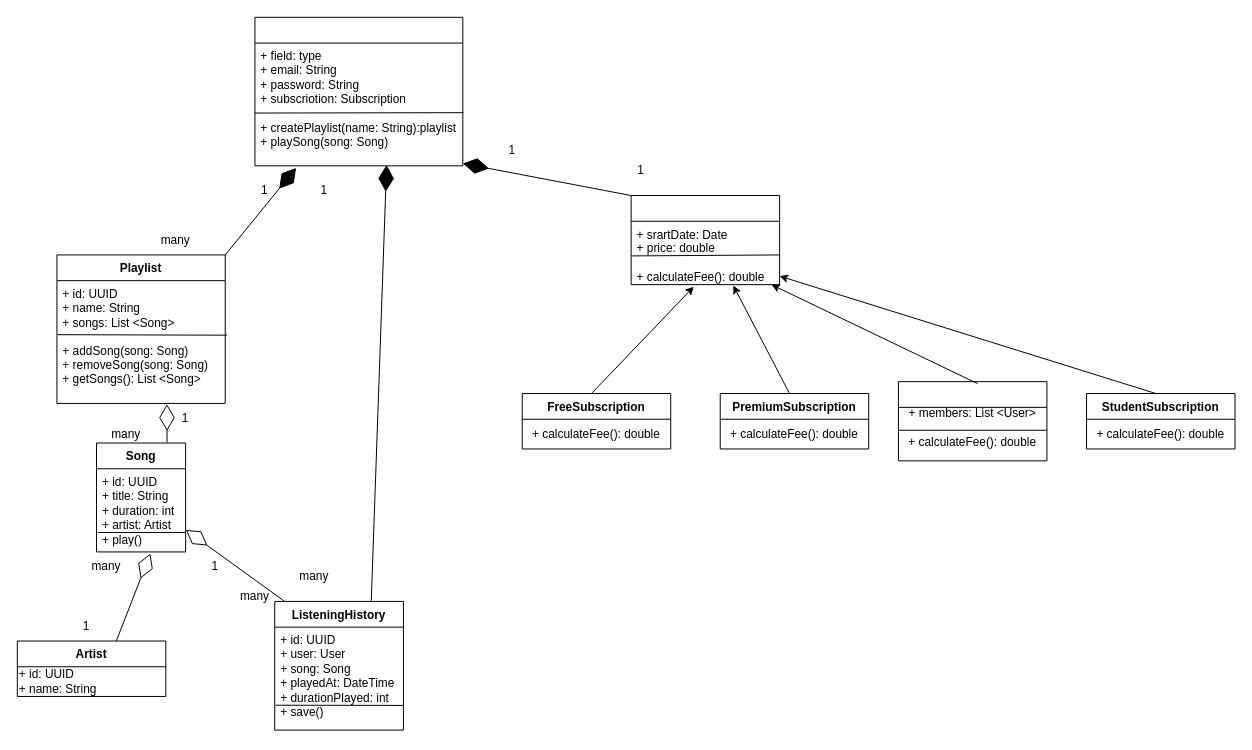
The diagram is 1252 pixels wide and 750 high, and some of its shapes have lost their labels. Here are the shapes that lost their labels. From the top down, the box of each, then its label:
(254, 16, 463, 166): User
(630, 195, 780, 285): Subscription
(897, 381, 1047, 461): FamilySubscription
